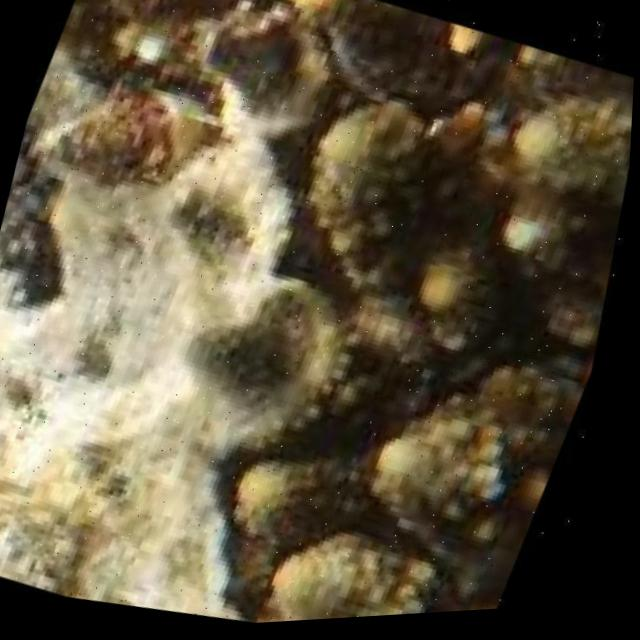Healthy Coral: (197, 55, 637, 630), (40, 34, 249, 226)
